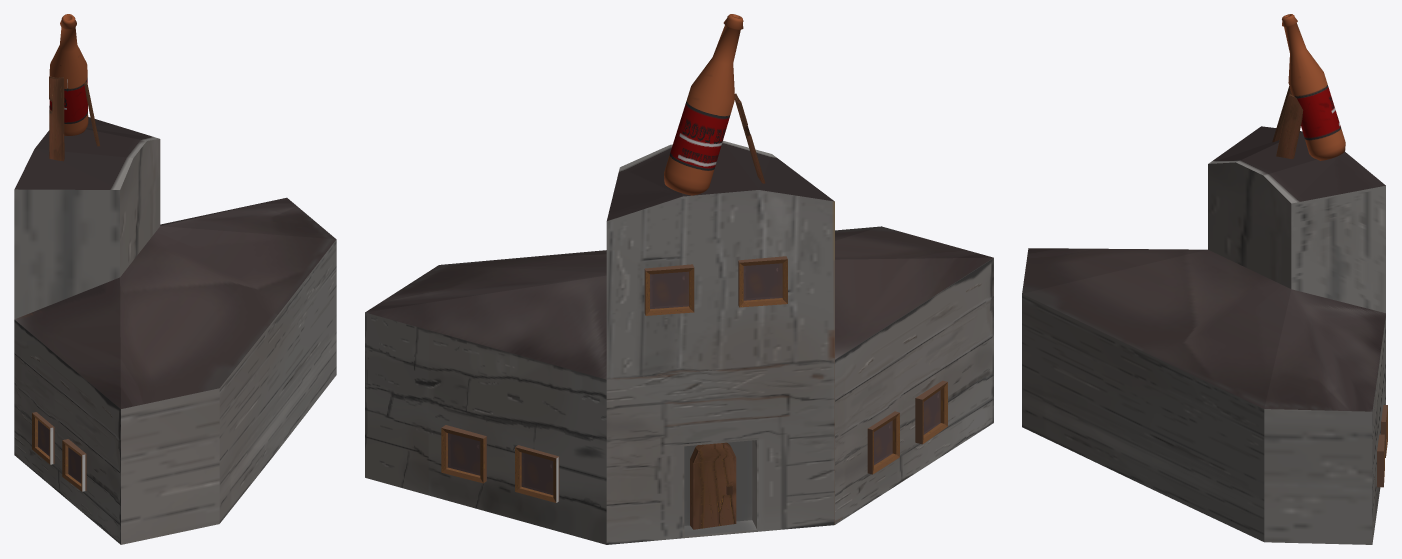
Rendered from bottle store.obj.
The picture shows the model from 3 angles, left to right: view 1: azimuth 30°, elevation 25°; view 2: azimuth 150°, elevation 25°; view 3: azimuth 270°, elevation 25°; orthographic projection. The views are drawn at different scales.
Visible parts, largest first — view 1: Cube.060_Cube.000, Cylinder.001, Cube.064_Cube.000, Cube.008, Cube.009; view 2: Cube.060_Cube.000, Cylinder.001, Cube.002, Cube.019, Cube.020, Cube.010, Cube.011, Cube.008, Cube.009; view 3: Cube.060_Cube.000, Cylinder.001, Cube.064_Cube.001.
Part boxes in pixels (box(x1,y1,x2,y2)): Cube.060_Cube.000: box(14, 117, 336, 544); Cylinder.001: box(49, 14, 88, 135); Cube.064_Cube.000: box(49, 76, 64, 161); Cube.008: box(62, 439, 86, 491); Cube.009: box(32, 412, 54, 464); Cube.060_Cube.000: box(365, 140, 993, 544); Cylinder.001: box(664, 14, 743, 195); Cube.002: box(690, 442, 736, 529); Cube.019: box(644, 264, 694, 315); Cube.020: box(738, 256, 787, 307); Cube.010: box(441, 425, 486, 483); Cube.011: box(515, 445, 559, 502); Cube.008: box(915, 380, 947, 444); Cube.009: box(867, 411, 899, 474); Cube.060_Cube.000: box(1022, 126, 1385, 544); Cylinder.001: box(1282, 14, 1345, 160); Cube.064_Cube.001: box(1276, 94, 1303, 159).
Size of the model in its own units: 15.19 by 17.53 by 14.34.
Materials: 5 (5 with a texture image).
